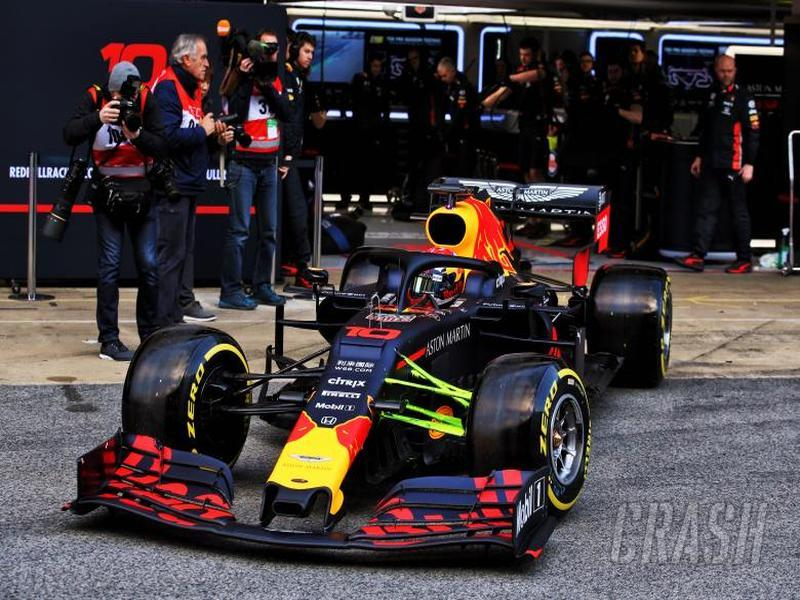f1: (120, 165, 687, 557)
